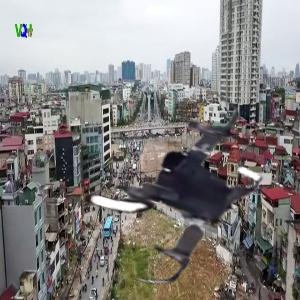drone: (60, 73, 279, 292)
